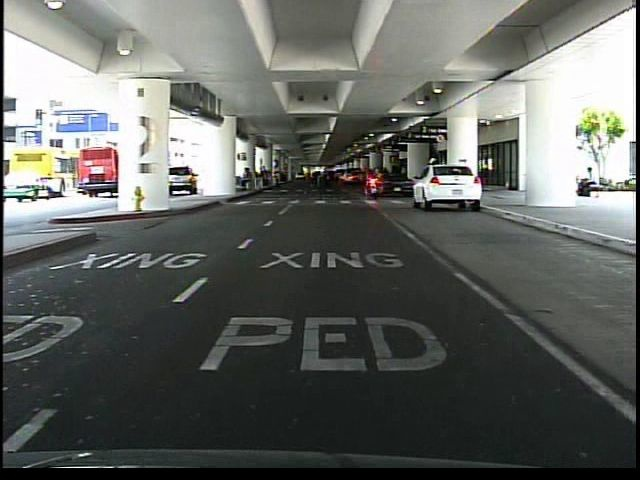person: (572, 162, 600, 199), (425, 153, 442, 205)
